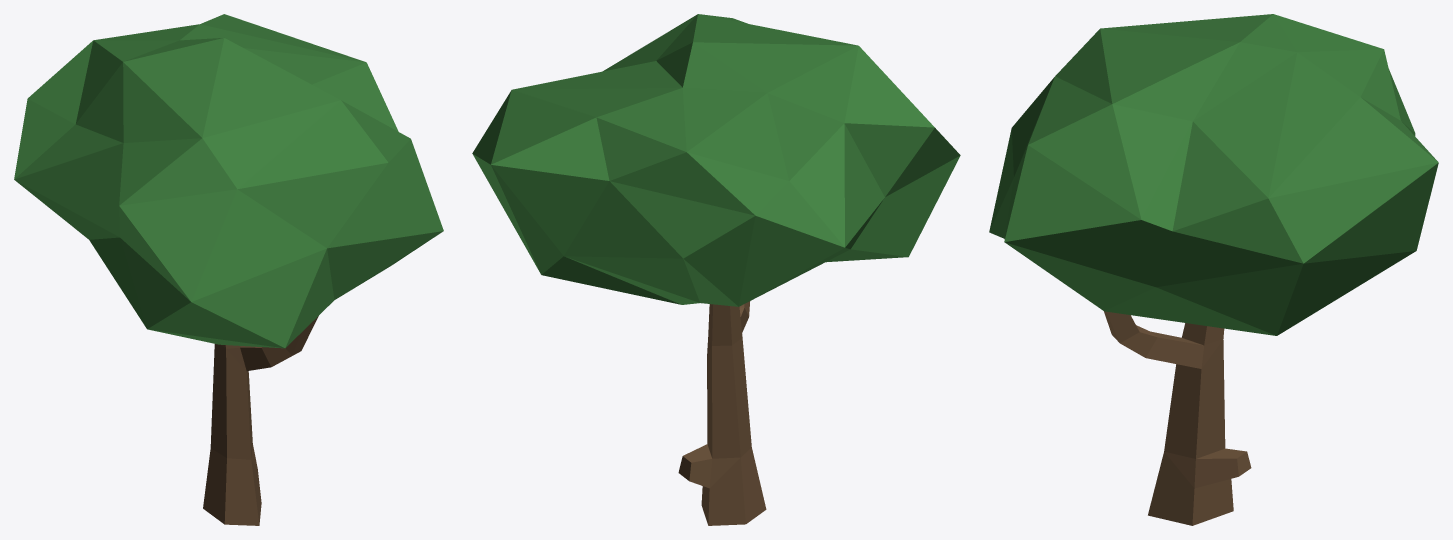
The model's file is Forest_002.fbx.
3 renders of one model, left to right at view 1: azimuth 30°, elevation 25°; view 2: azimuth 150°, elevation 25°; view 3: azimuth 270°, elevation 25°, orthographic. The views are drawn at different scales.
Parts seen in each view (by area): view 1: Forest_002; view 2: Forest_002; view 3: Forest_002.
Part boxes in pixels (left/top/right/bottom): Forest_002: left=14, top=14, right=443, bottom=525; Forest_002: left=472, top=14, right=960, bottom=525; Forest_002: left=989, top=14, right=1438, bottom=525.
Size of the model in its own units: 558 by 687 by 586.
